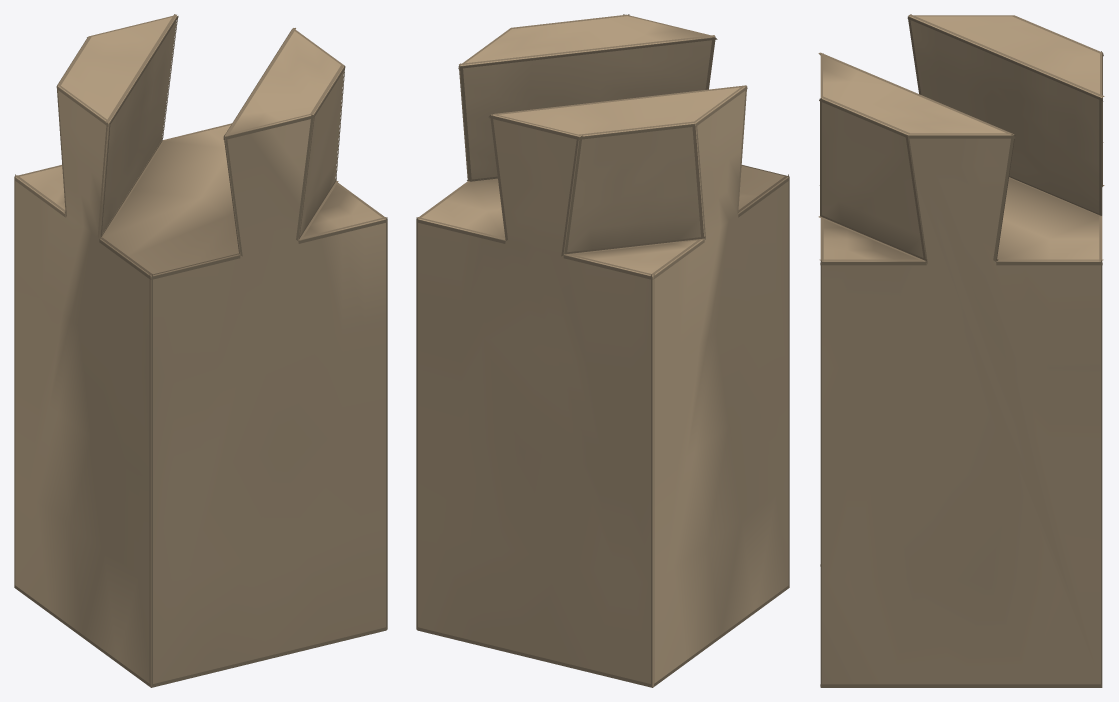
3 views of the same model, side by side, from view 1: azimuth 30°, elevation 25°; view 2: azimuth 150°, elevation 25°; view 3: azimuth 270°, elevation 25° (orthographic). The views are drawn at different scales.
Visible parts, largest first — view 1: part-a; view 2: part-a; view 3: part-a.
Part boxes in pixels (x1=…): part-a: x1=14, y1=14, x2=387, y2=687; part-a: x1=416, y1=14, x2=789, y2=687; part-a: x1=818, y1=14, x2=1104, y2=687.
Bounding box in the file's own units: 0.1231 × 0.2627 × 0.1231.
